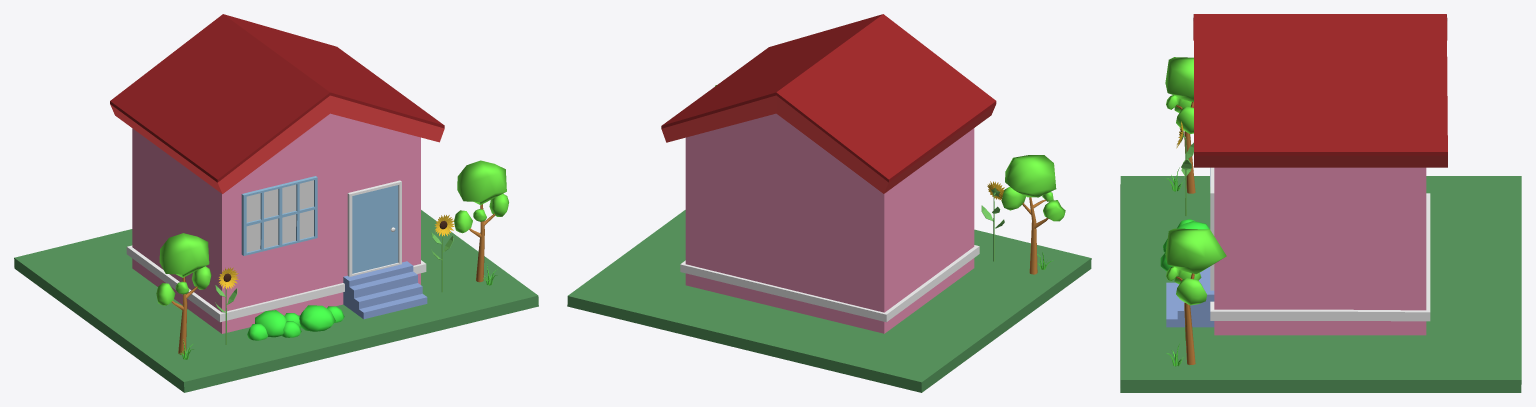
The model's file is house-6.fbx.
3 renders of one model, left to right at view 1: azimuth 30°, elevation 25°; view 2: azimuth 150°, elevation 25°; view 3: azimuth 270°, elevation 25°, orthographic. The views are drawn at different scales.
Visible parts, largest first — view 1: Cube, Cube.001, Plane, big window 1.001, Cube.005, Cube.002, tree_1.006, tree_1.001, Icosphere.007, Icosphere, Icosphere.005, Icosphere.008; view 2: Cube, Plane, Cube.001, tree_1.001, Icosphere.005; view 3: Plane, Cube.001, Cube, tree_1.006, tree_1.001, Cube.002, Cube.005, Icosphere.005.
Boxes of the visible parts, bbox=[...] form: Cube: bbox=[126, 113, 426, 333]; Cube.001: bbox=[110, 14, 444, 193]; Plane: bbox=[14, 210, 538, 392]; big window 1.001: bbox=[241, 176, 317, 255]; Cube.005: bbox=[347, 180, 401, 276]; Cube.002: bbox=[343, 261, 427, 319]; tree_1.006: bbox=[454, 160, 508, 282]; tree_1.001: bbox=[156, 233, 211, 354]; Icosphere.007: bbox=[299, 305, 335, 331]; Icosphere: bbox=[255, 310, 286, 337]; Icosphere.005: bbox=[215, 267, 238, 344]; Icosphere.008: bbox=[431, 215, 454, 292]; Cube: bbox=[680, 113, 979, 333]; Plane: bbox=[567, 210, 1091, 392]; Cube.001: bbox=[661, 14, 996, 193]; tree_1.001: bbox=[1001, 155, 1065, 274]; Icosphere.005: bbox=[981, 181, 1004, 261]; Plane: bbox=[1120, 176, 1521, 392]; Cube.001: bbox=[1193, 14, 1447, 167]; Cube: bbox=[1210, 167, 1430, 335]; tree_1.006: bbox=[1165, 228, 1226, 364]; tree_1.001: bbox=[1165, 57, 1195, 193]; Cube.002: bbox=[1166, 266, 1214, 327]; Cube.005: bbox=[1210, 167, 1214, 290]; Icosphere.005: bbox=[1176, 121, 1193, 216].
Bounding box in the file's own units: 2956 × 1863 × 2448.
